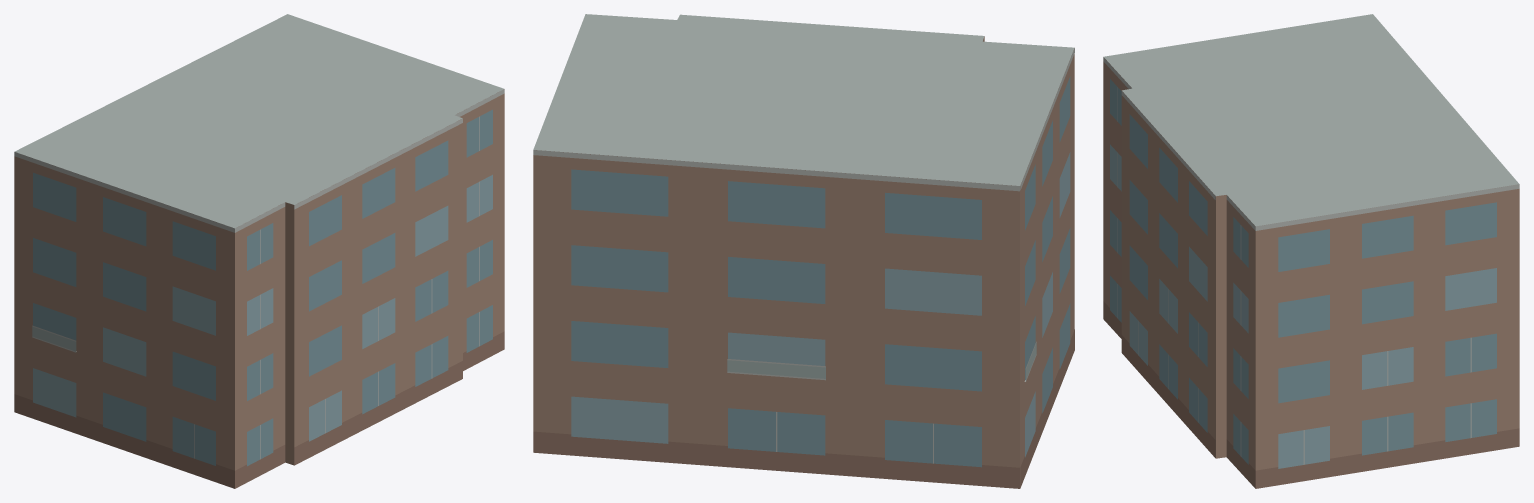
File: survey-upis-32549022.glb
The picture shows the model from 3 angles, left to right: view 1: azimuth 30°, elevation 25°; view 2: azimuth 150°, elevation 25°; view 3: azimuth 270°, elevation 25°; orthographic projection. The views are drawn at different scales.
Parts seen in each view (by area): view 1: survey-upis-32549022.tmp; view 2: survey-upis-32549022.tmp; view 3: survey-upis-32549022.tmp.
Part boxes in pixels (x1,y1,x2,y2): survey-upis-32549022.tmp: (14,14,504,488); survey-upis-32549022.tmp: (533,14,1074,488); survey-upis-32549022.tmp: (1103,14,1519,488).
Bounding box in the file's own units: 24.42 × 14.06 × 20.22.
